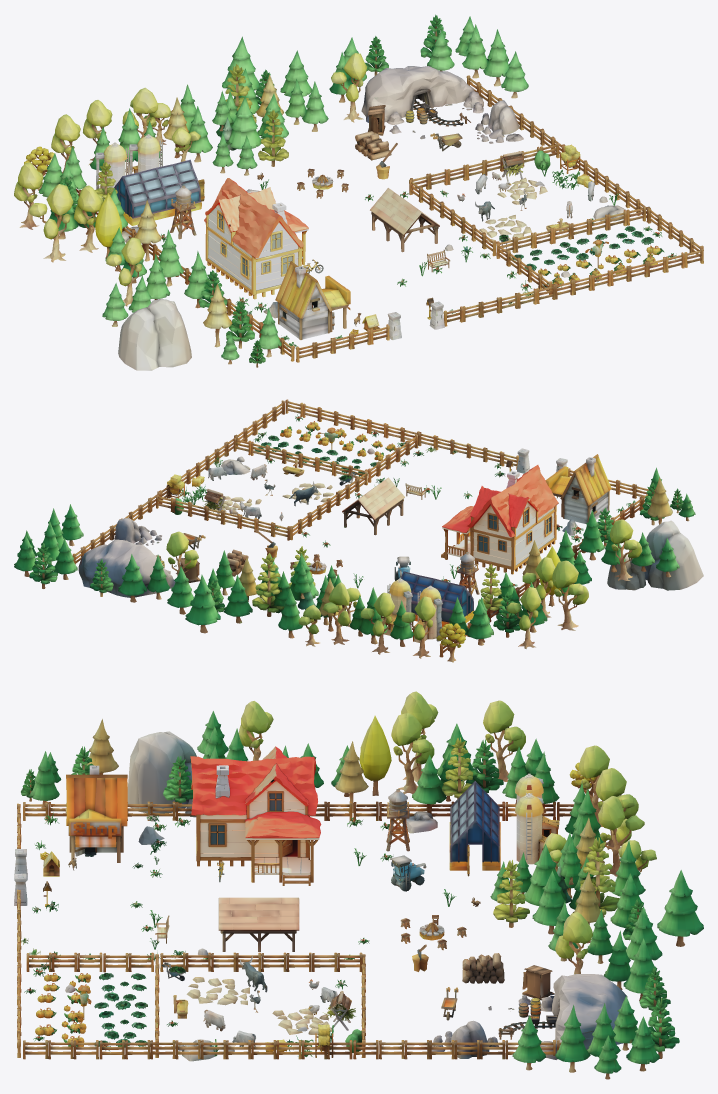
Rendered from Gold Home_0317_compress.glb.
3 views of the same model, one above another, from view 1: azimuth 30°, elevation 25°; view 2: azimuth 150°, elevation 25°; view 3: azimuth 270°, elevation 25° (orthographic). The views are drawn at different scales.
Visible parts, largest first — view 1: Curve_Baked, HomeLV1_Baked; view 2: Curve_Baked, HomeLV1_Baked; view 3: Curve_Baked, HomeLV1_Baked.
Boxes of the visible parts, x1=… form: Curve_Baked: x1=14, y1=14, x2=703, y2=370; HomeLV1_Baked: x1=204, y1=178, x2=308, y2=299; Curve_Baked: x1=14, y1=399, x2=703, y2=662; HomeLV1_Baked: x1=441, y1=465, x2=558, y2=574; Curve_Baked: x1=14, y1=691, x2=703, y2=1079; HomeLV1_Baked: x1=190, y1=746, x2=321, y2=885.
Size of what is drawn, in the model's own units: 2.25 by 0.3769 by 1.98.
2 materials, 2 textured.
